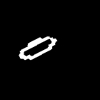chain: (19, 37, 56, 59)
